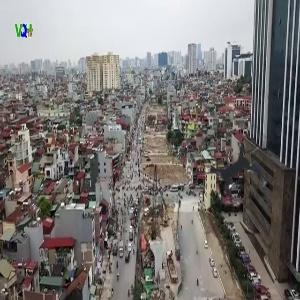drone: (183, 115, 295, 227)
